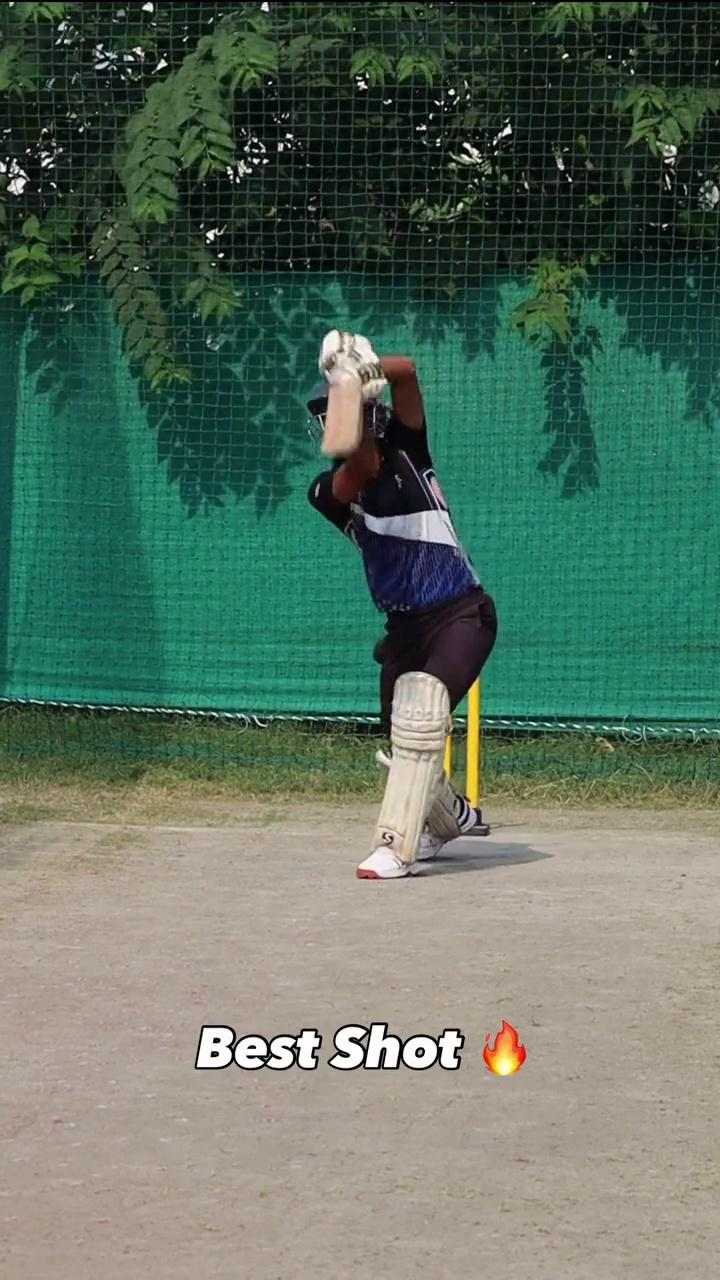bat: (320, 381, 362, 456)
